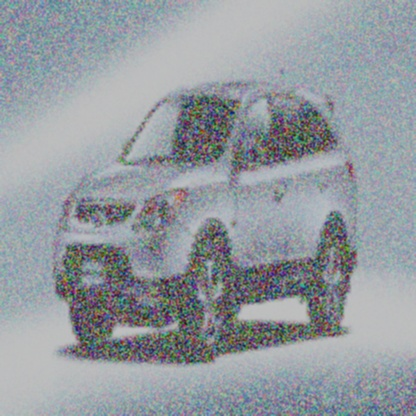Vehicle: (53, 64, 362, 366)
